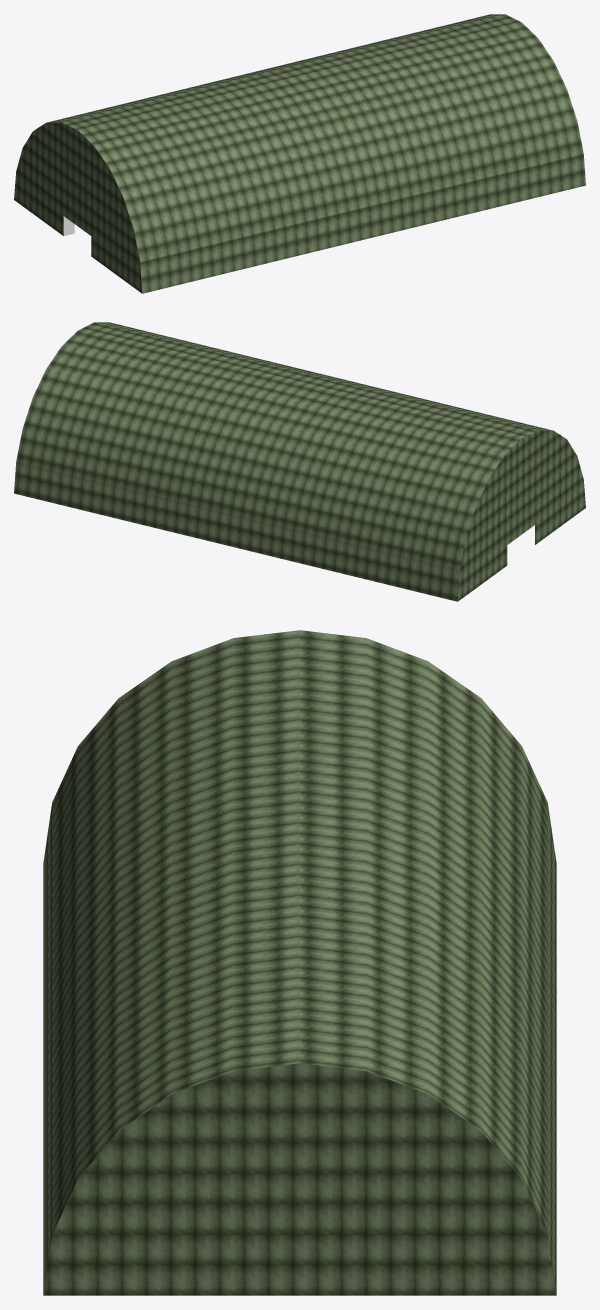
File: L2Bunker.fbx
3 renders of one model, top to bottom at view 1: azimuth 30°, elevation 25°; view 2: azimuth 150°, elevation 25°; view 3: azimuth 270°, elevation 25°, orthographic. The views are drawn at different scales.
Visible parts, largest first — view 1: Bunker; view 2: Bunker; view 3: Bunker.
Boxes of the visible parts, x1,y1,x2,y2 form: Bunker: (14, 14, 585, 293); Bunker: (14, 322, 585, 601); Bunker: (43, 630, 556, 1295).
Size of the model in its own units: 73.6 by 18.43 by 36.86.
